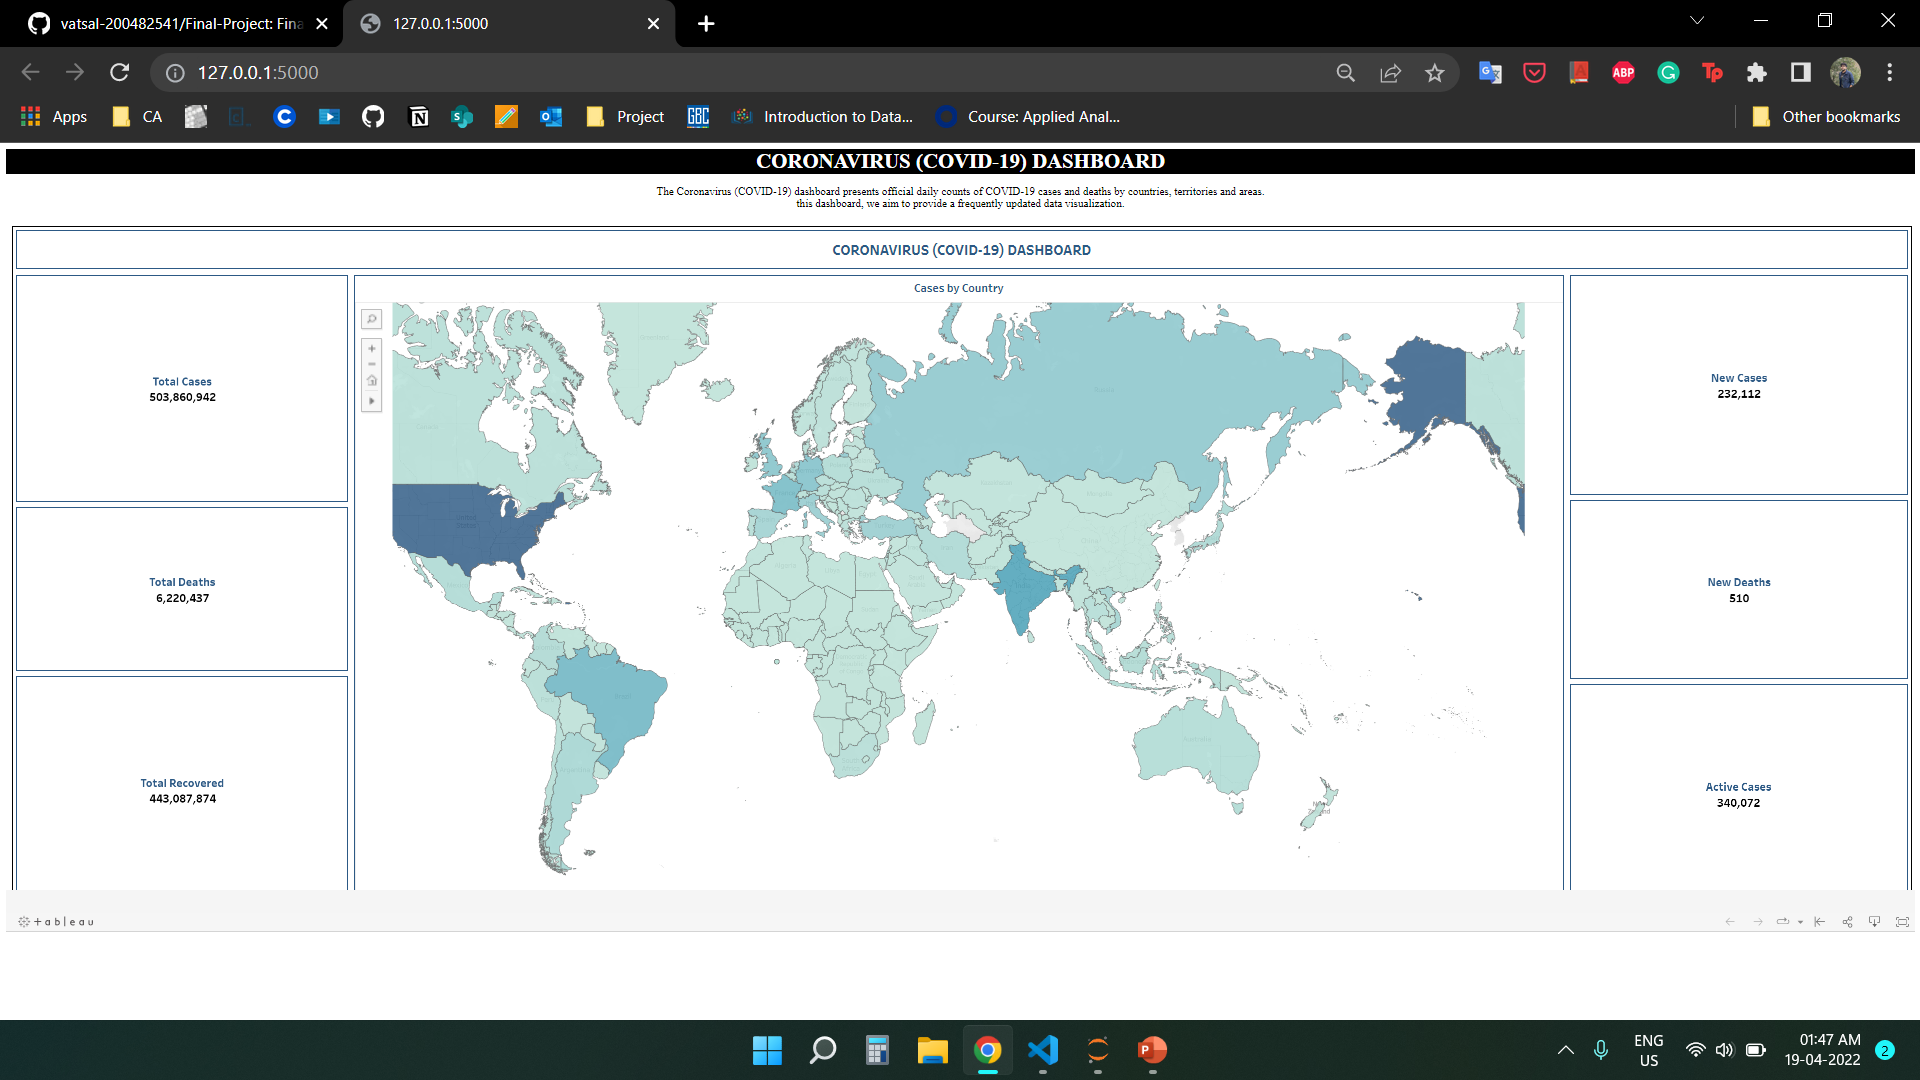

The page's visual inventory and layout, read from the dashboard file:
{"tool":"tableau","page":{"name":"Dashboard 1","canvas":[1000,1000],"units":"permille","ordinal":0},"visuals":[{"type":"text","box":[6,11.8,987.9,65]},{"type":"worksheet","title":"cases","mark":"Automatic","box":[6,76.8,175.9,312.4]},{"type":"worksheet","title":"country","mark":"Multipolygon","box":[181.9,76.8,633.3,911.5]},{"type":"worksheet","title":"new cases","mark":"Automatic","box":[815.2,76.8,178.8,300]},{"type":"worksheet","title":"new deaths","mark":"Automatic","box":[815.2,376.8,178.8,311.4]},{"type":"worksheet","title":"deaths","mark":"Automatic","box":[6,389.2,175.9,286.7]},{"type":"worksheet","title":"recovered","mark":"Automatic","box":[6,675.9,175.9,312.4]},{"type":"worksheet","title":"active cases","mark":"Automatic","box":[815.2,688.2,178.8,300]}]}

Visuals, with their boxes on the dashboard's canvas, which has no fixed pixel size, in thousandths of its width and height (x1, y1, x2, y2). These are canvas units, not pixel positions in the 1920x1080 screenshot, which may show the page scaled, cropped or inside an application window:
text: x1=6 y1=12 x2=994 y2=77
"cases" worksheet: x1=6 y1=77 x2=182 y2=389
"country" worksheet (Multipolygon marks): x1=182 y1=77 x2=815 y2=988
"new cases" worksheet: x1=815 y1=77 x2=994 y2=377
"new deaths" worksheet: x1=815 y1=377 x2=994 y2=688
"deaths" worksheet: x1=6 y1=389 x2=182 y2=676
"recovered" worksheet: x1=6 y1=676 x2=182 y2=988
"active cases" worksheet: x1=815 y1=688 x2=994 y2=988
